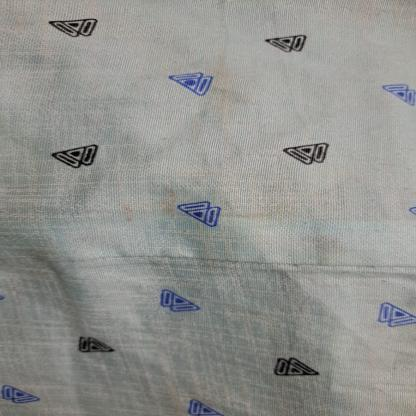spot: (199, 52, 250, 160), (305, 230, 341, 262), (156, 185, 184, 222), (112, 202, 139, 223)
